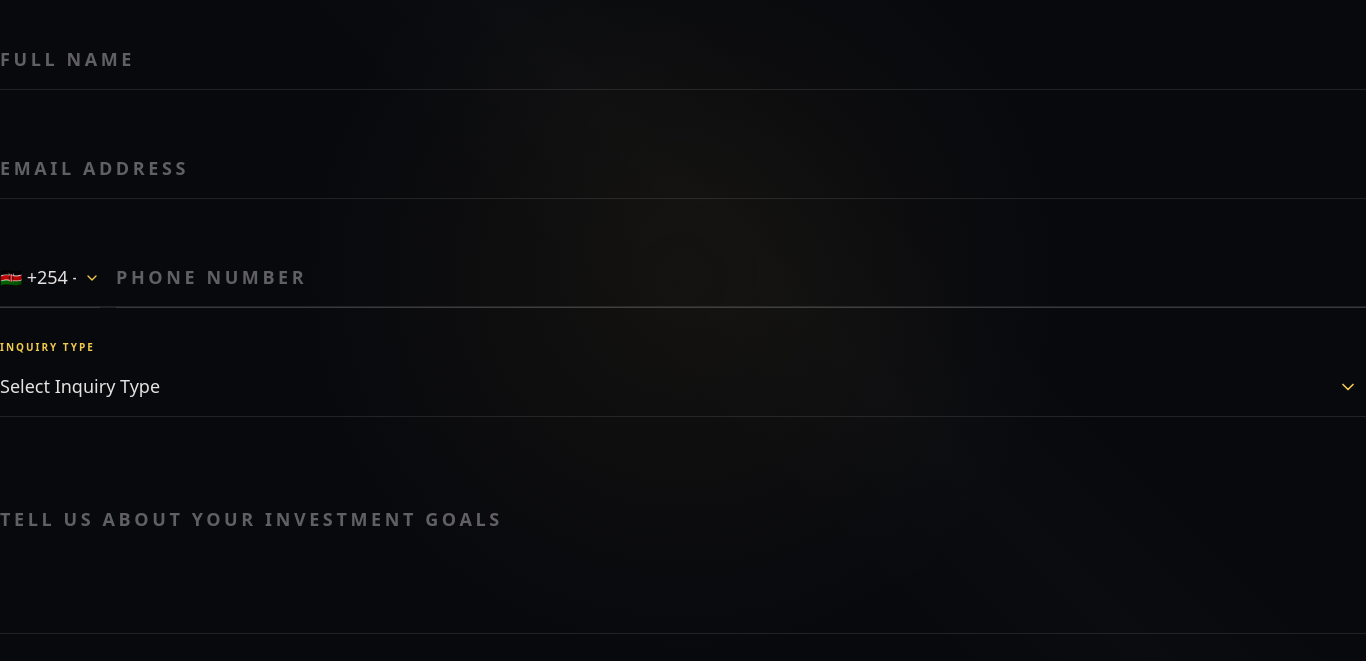
it: ContactForm Component › submits the form with valid data
In the field labelled "Full Name": point(683, 60) [0,29,1365,90], type "Jane Doe"
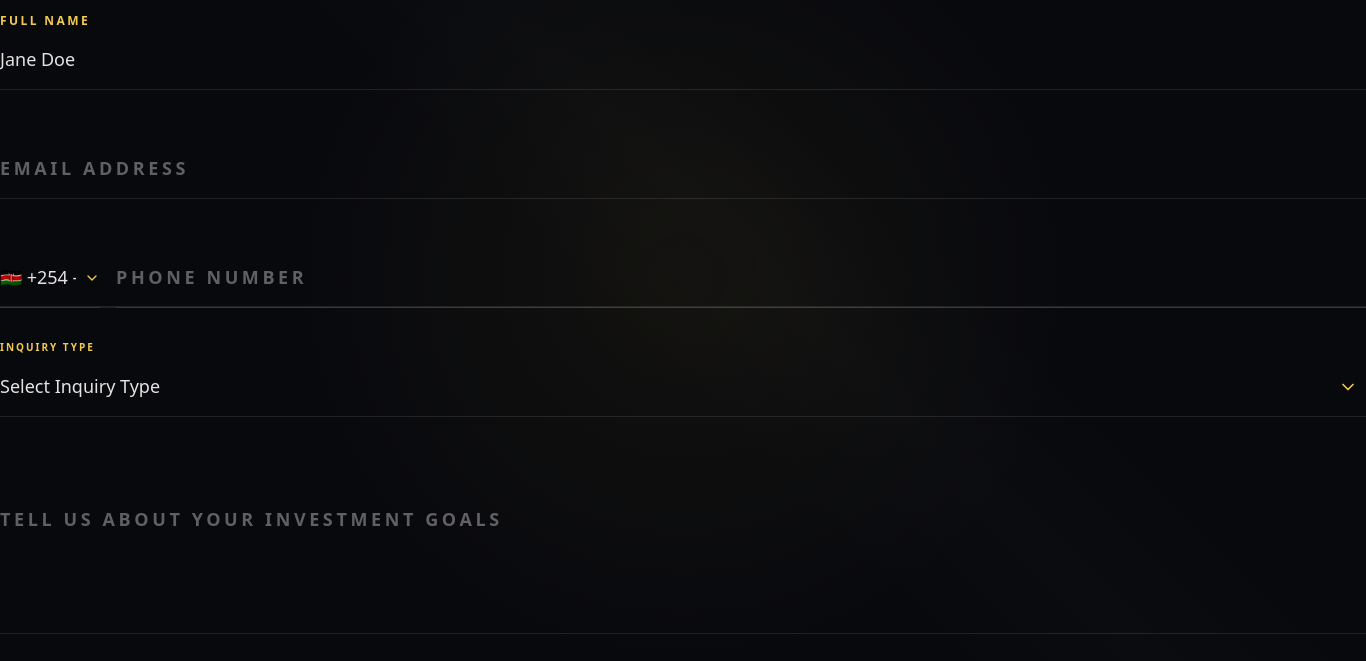
In the field labelled "Email Address": point(683, 168) [0,138,1365,199], type "jane@example.com"
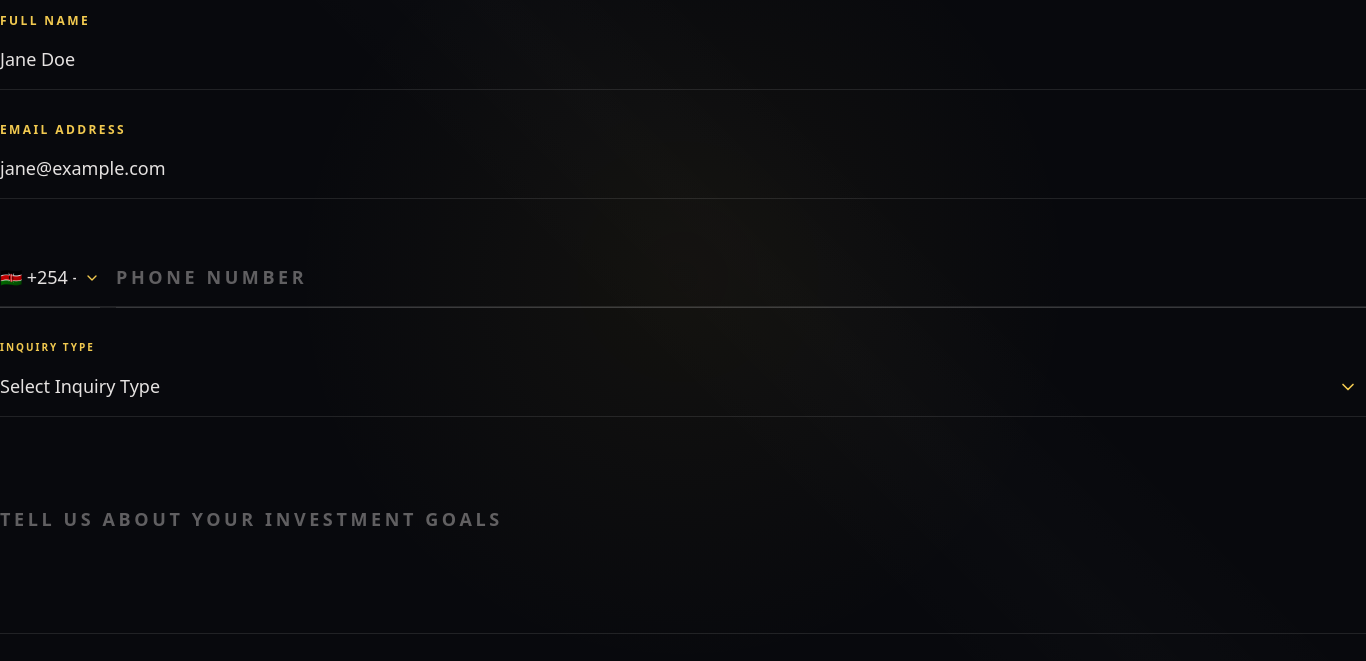
In the field labelled "Phone Number": point(741, 278) [116,247,1365,308], type "0712345678"
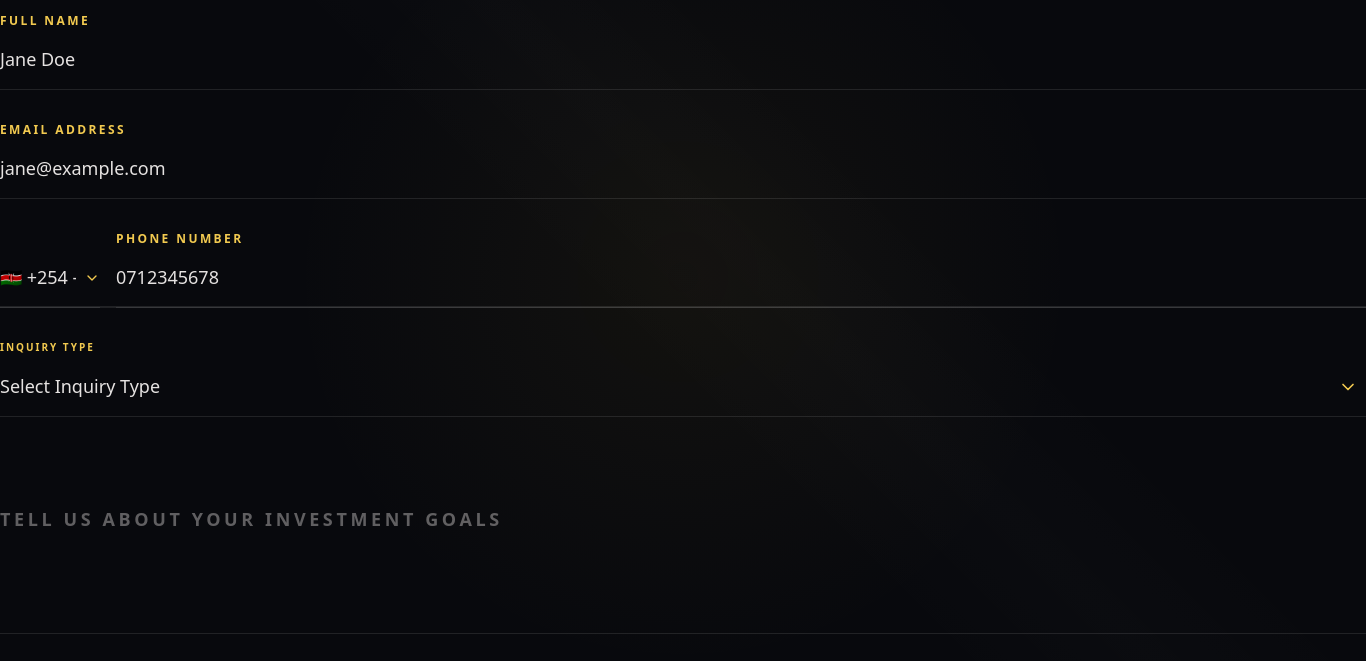
Select "Buy a Home" in the dropdown labelled "Inquiry Type": point(683, 386) [0,356,1365,417]
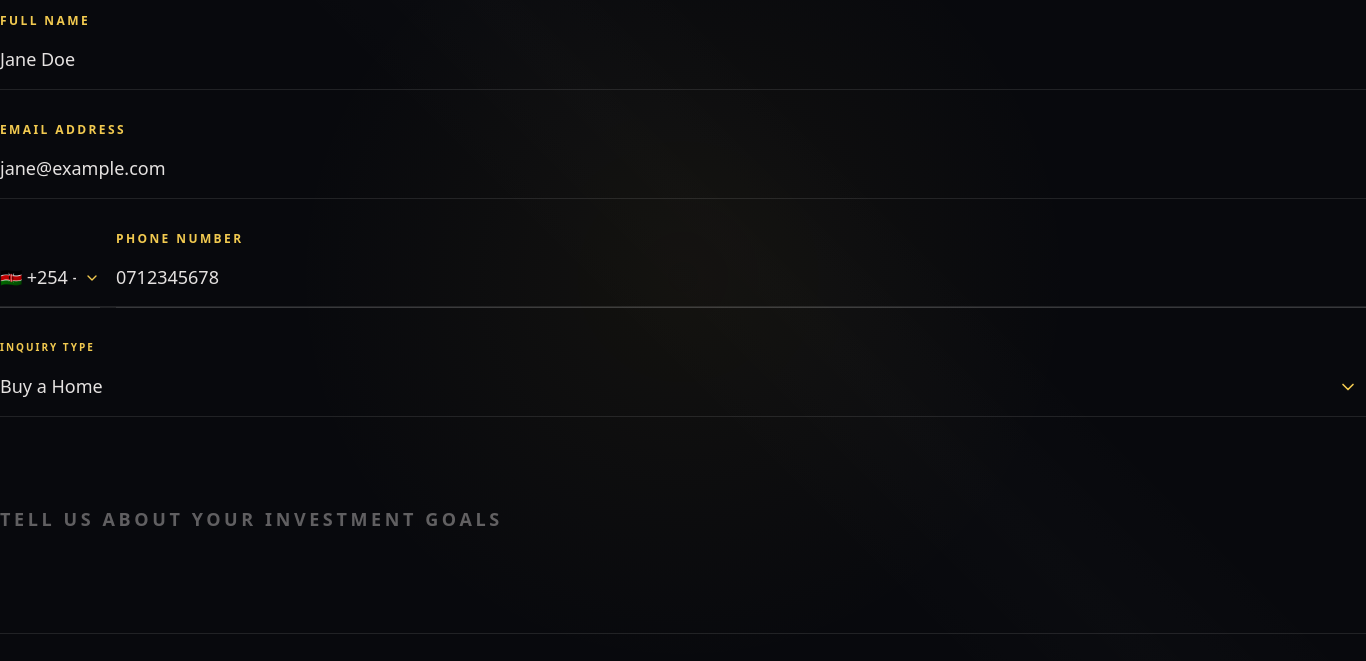
In the text box labelled "Tell us about your investment goals": point(683, 562) [0,489,1365,634], type "I want to buy a house in Nairobi."
(page scrolled)
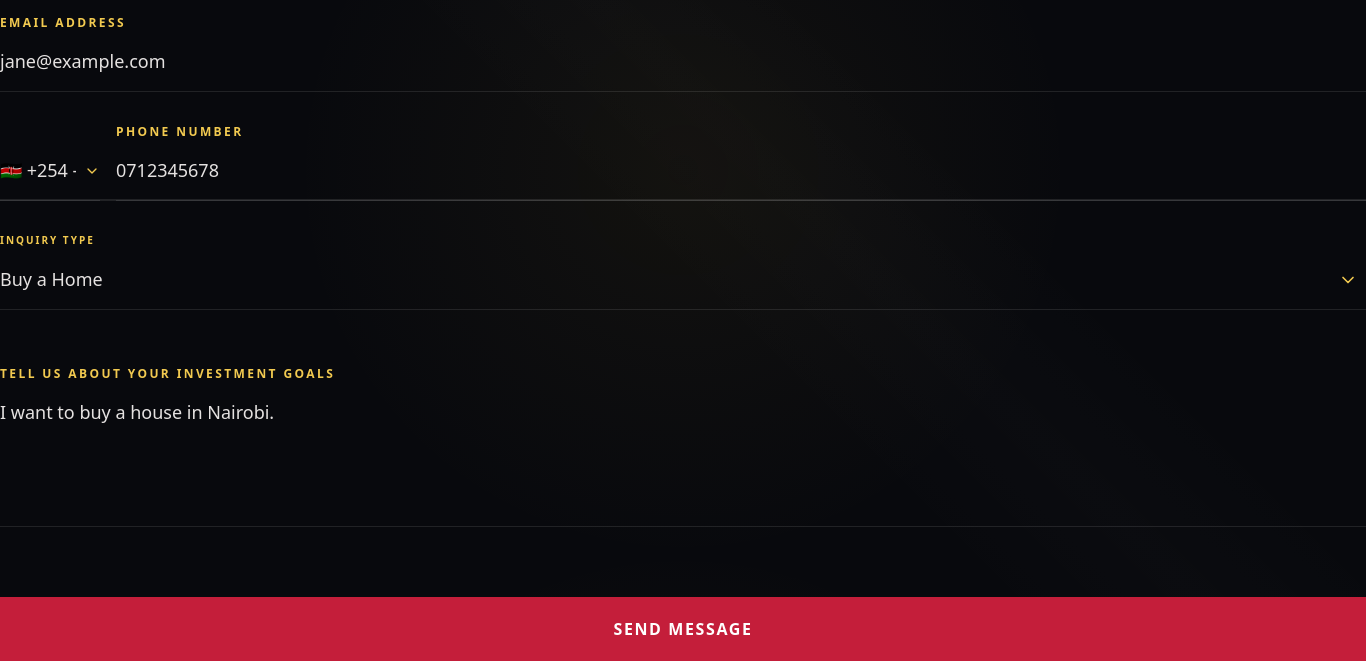
Click the button "Send Message": point(683, 629) [0,597,1365,660]
(page scrolled)
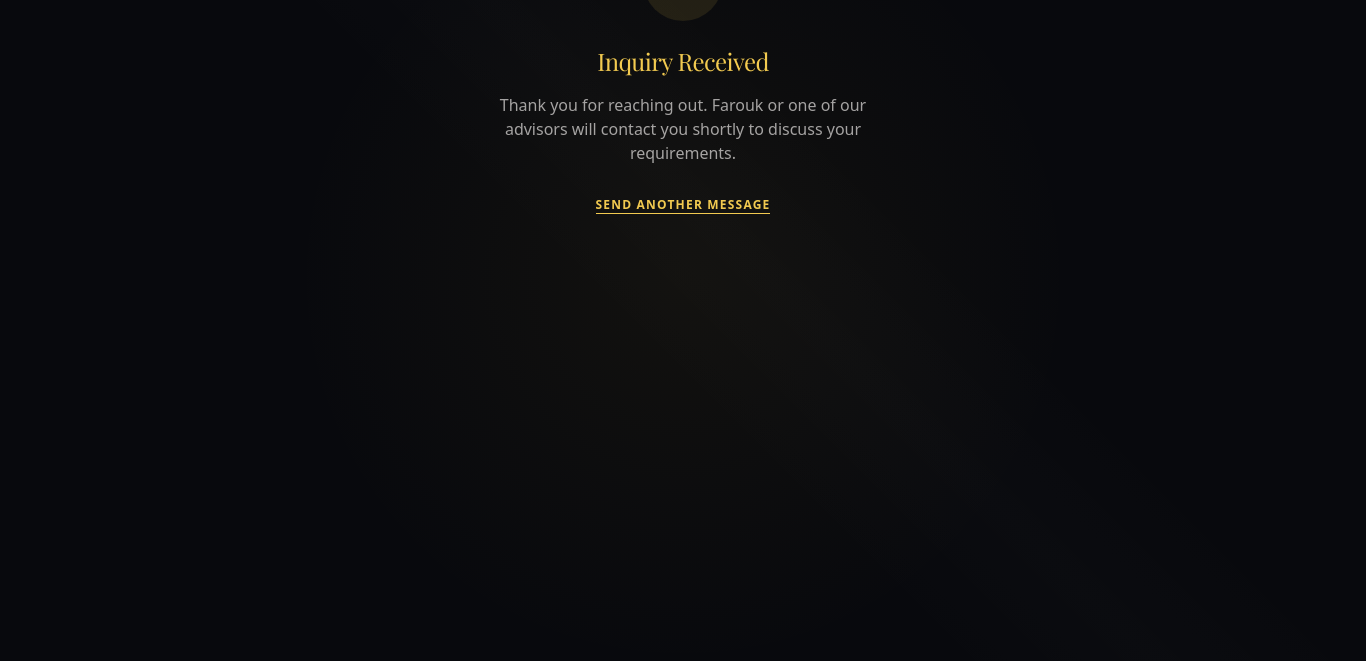
Result: the heading "Inquiry Received" is shown at [597,45,769,77]
